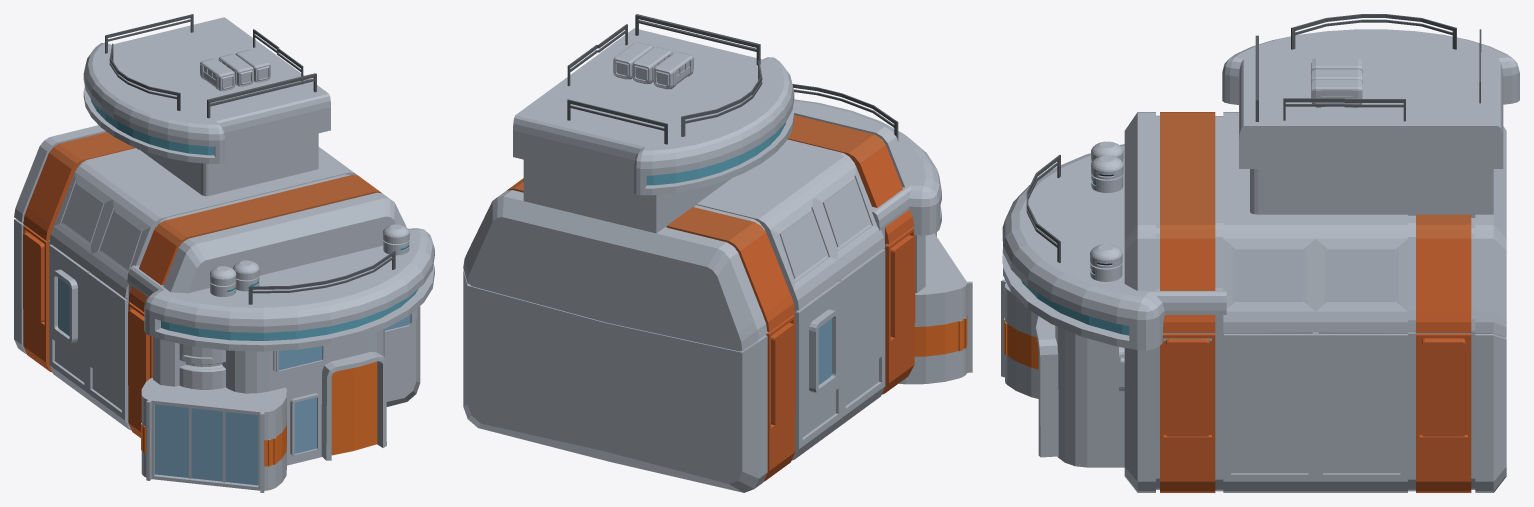
File: Building_05.fbx
3 renders of one model, left to right at view 1: azimuth 30°, elevation 25°; view 2: azimuth 150°, elevation 25°; view 3: azimuth 270°, elevation 25°, orthographic. The views are drawn at different scales.
Parts seen in each view (by area): view 1: Building_05; view 2: Building_05; view 3: Building_05.
Boxes of the visible parts, bbox=[...] form: Building_05: bbox=[14, 14, 434, 492]; Building_05: bbox=[463, 14, 972, 492]; Building_05: bbox=[1001, 14, 1519, 492].
Bounding box in the file's own units: 1255 × 1215 × 1541.
Materials: 2 (2 with a texture image).
